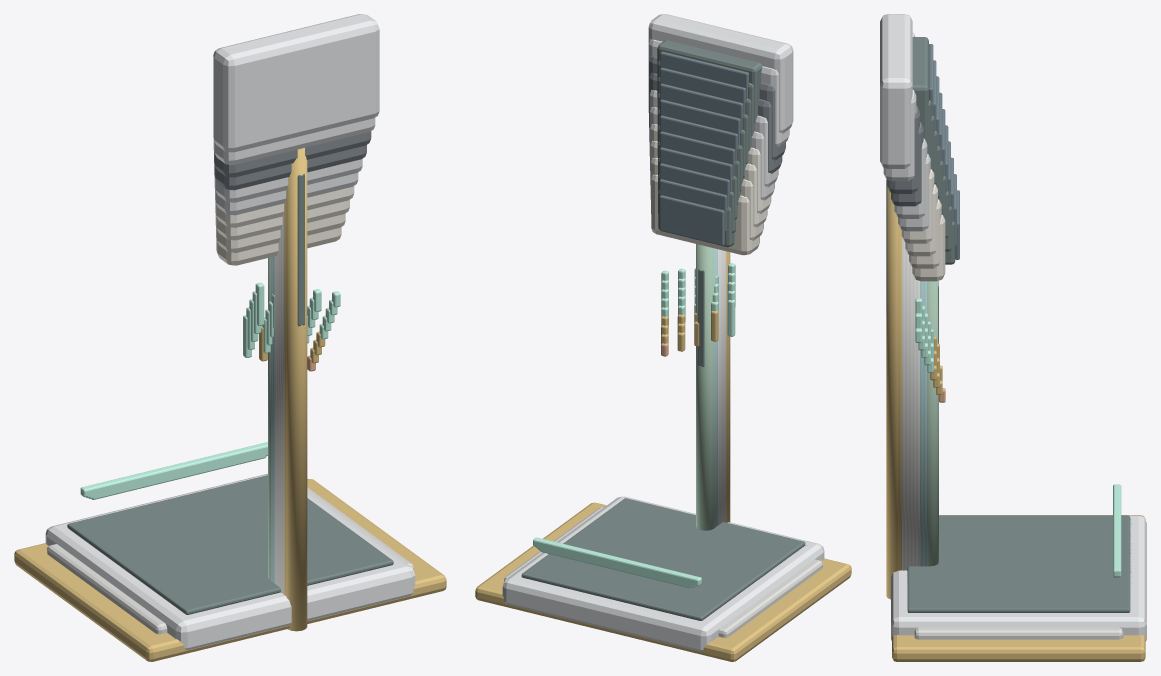
File: Gear06.fbx
3 renders of one model, left to right at view 1: azimuth 30°, elevation 25°; view 2: azimuth 150°, elevation 25°; view 3: azimuth 270°, elevation 25°, orthographic. The views are drawn at different scales.
Parts seen in each view (by area): view 1: Gear06_V10_Platinum, Gear06_V10_Gold, Gear06_V2_Ink, Gear06_V10_Ink, Gear06_V6_Ink, Gear06_V3_Ink, Gear06_V9_Platinum, Gear06_V9_Gold, Gear06_V10_Glow, Gear06_V9_Ink, Gear06_V10_Chrome, Gear06_V8_Graphite (+19 smaller); view 2: Gear06_V10_Platinum, Gear06_V9_Ink, Gear06_V10_Ink, Gear06_V10_Gold, Gear06_V1_Sage, Gear06_V1_Ink, Gear06_V2_Ink, Gear06_V7_Ink, Gear06_V8_Ink, Gear06_V1_Glass, Gear06_V10_Chrome, Gear06_V9_Gold (+26 smaller); view 3: Gear06_V10_Ink, Gear06_V10_Platinum, Gear06_V10_Gold, Gear06_V1_Ink, Gear06_V9_Gold, Gear06_V9_Ink, Gear06_V1_Sage, Gear06_V10_Chrome, Gear06_V4_Ink, Gear06_V5_Ink, Gear06_V9_Platinum, Gear06_V2_Ink (+18 smaller).
Part boxes in pixels (bbox=[...]): Gear06_V10_Platinum: bbox=[45, 14, 415, 650]; Gear06_V10_Gold: bbox=[14, 148, 446, 661]; Gear06_V2_Ink: bbox=[108, 492, 267, 593]; Gear06_V10_Ink: bbox=[67, 173, 393, 614]; Gear06_V6_Ink: bbox=[89, 482, 347, 601]; Gear06_V3_Ink: bbox=[104, 491, 357, 595]; Gear06_V9_Platinum: bbox=[60, 118, 375, 618]; Gear06_V9_Gold: bbox=[156, 199, 440, 660]; Gear06_V10_Glow: bbox=[80, 282, 340, 497]; Gear06_V9_Ink: bbox=[74, 477, 326, 600]; Gear06_V10_Chrome: bbox=[47, 487, 413, 634]; Gear06_V8_Graphite: bbox=[214, 131, 371, 177]; Gear06_V10_Platinum: bbox=[502, 14, 824, 651]; Gear06_V9_Ink: bbox=[528, 61, 797, 614]; Gear06_V10_Ink: bbox=[521, 40, 805, 620]; Gear06_V10_Gold: bbox=[475, 251, 851, 661]; Gear06_V1_Sage: bbox=[696, 244, 714, 530]; Gear06_V1_Ink: bbox=[561, 190, 734, 575]; Gear06_V2_Ink: bbox=[557, 174, 742, 602]; Gear06_V7_Ink: bbox=[536, 93, 760, 575]; Gear06_V8_Ink: bbox=[532, 77, 792, 584]; Gear06_V1_Glass: bbox=[659, 195, 724, 245]; Gear06_V10_Chrome: bbox=[504, 507, 822, 637]; Gear06_V9_Gold: bbox=[480, 251, 750, 658]; Gear06_V10_Ink: bbox=[886, 37, 1130, 612]; Gear06_V10_Platinum: bbox=[880, 14, 1146, 641]; Gear06_V10_Gold: bbox=[886, 187, 1145, 661]; Gear06_V1_Ink: bbox=[938, 221, 1094, 590]; Gear06_V9_Gold: bbox=[892, 225, 1145, 649]; Gear06_V9_Ink: bbox=[912, 100, 1125, 607]; Gear06_V1_Sage: bbox=[927, 280, 938, 566]; Gear06_V10_Chrome: bbox=[914, 627, 1123, 639]; Gear06_V4_Ink: bbox=[929, 176, 1107, 594]; Gear06_V5_Ink: bbox=[925, 161, 1112, 583]; Gear06_V9_Platinum: bbox=[883, 33, 1134, 615]; Gear06_V2_Ink: bbox=[935, 206, 1102, 587].
Bounding box in the file's own units: 78.56 × 148 × 65.2.
